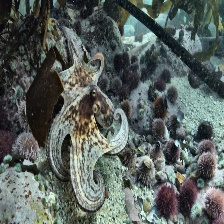octopus: (46, 73, 113, 212)
